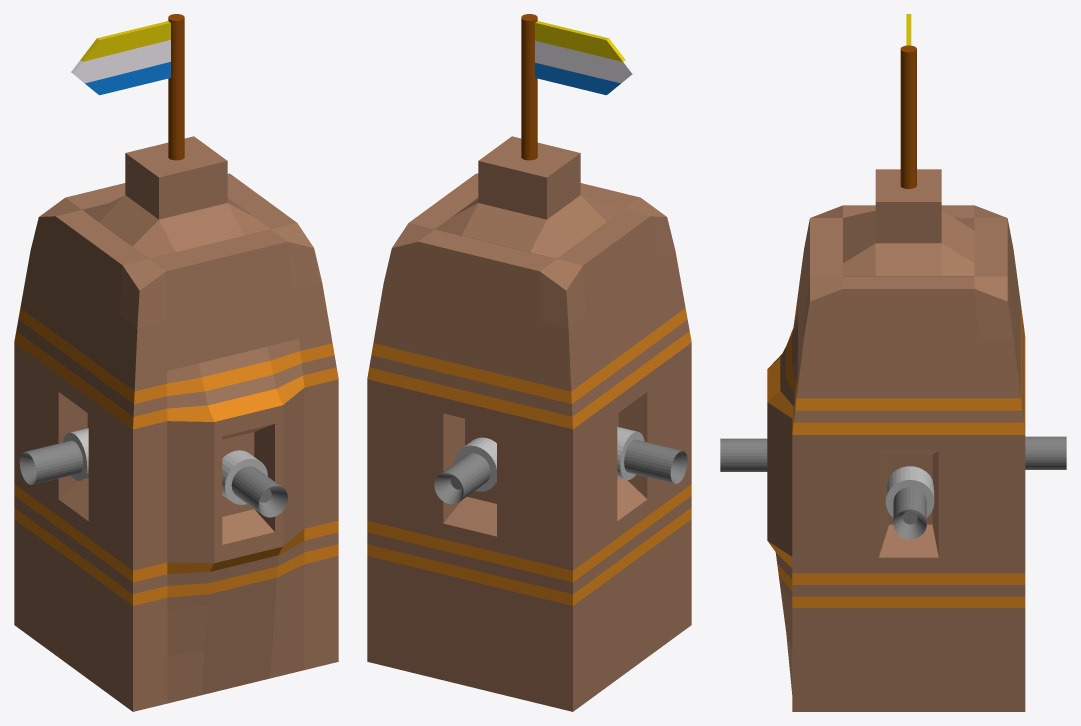
Rendered from FLAMETHROWER.fbx.
3 renders of one model, left to right at view 1: azimuth 30°, elevation 25°; view 2: azimuth 150°, elevation 25°; view 3: azimuth 270°, elevation 25°, orthographic.
Visible parts, largest first — view 1: Cube, Cube.003, Cube.002; view 2: Cube, Cube.001, Cube.002; view 3: Cube, Cube.004, Cube.003, Cube.001.
Part boxes in pixels (x1=…): Cube: x1=14, y1=14, x2=338, y2=711; Cube.003: x1=222, y1=450, x2=287, y2=517; Cube.002: x1=19, y1=428, x2=88, y2=484; Cube: x1=367, y1=14, x2=691, y2=711; Cube.001: x1=434, y1=437, x2=496, y2=504; Cube.002: x1=617, y1=427, x2=687, y2=483; Cube: x1=767, y1=14, x2=1025, y2=711; Cube.004: x1=885, y1=466, x2=934, y2=539; Cube.003: x1=720, y1=438, x2=767, y2=471; Cube.001: x1=1025, y1=436, x2=1066, y2=469.
Bounding box in the file's own units: 566 × 1151 × 589.
